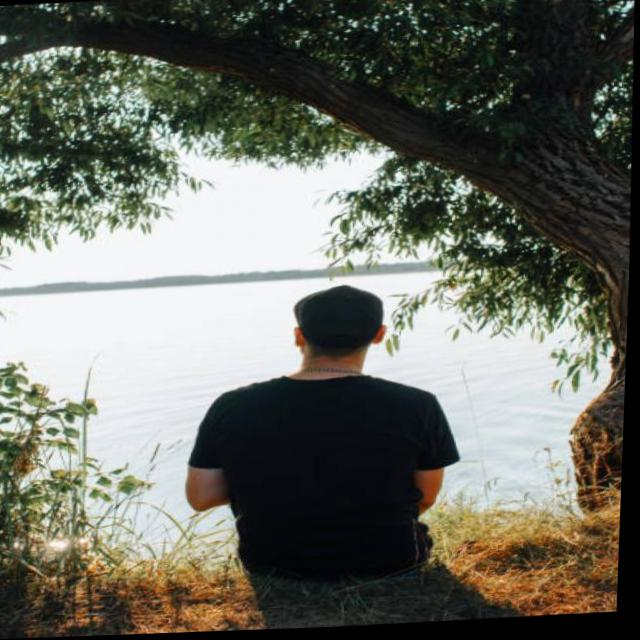no helmet: (266, 275, 405, 398)
